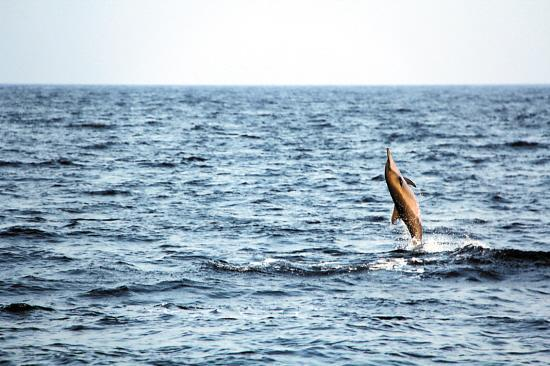fish: (382, 146, 429, 249)
